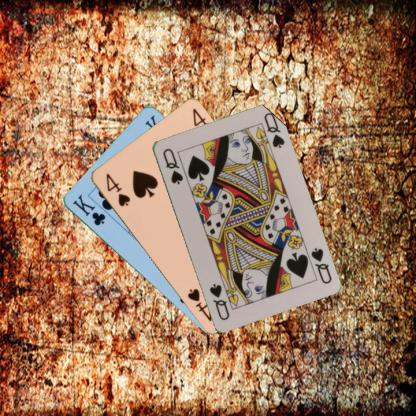4s: (103, 170, 131, 208)
Kc: (70, 191, 107, 227)
Qs: (308, 244, 333, 285), (160, 145, 184, 185)
